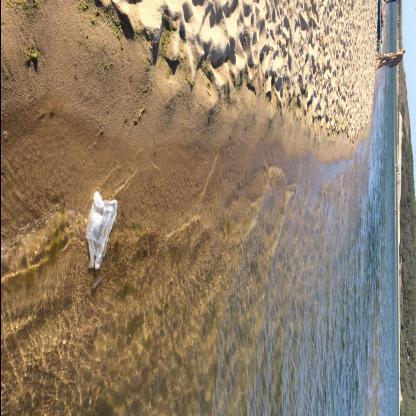plastik: (85, 191, 119, 271)
